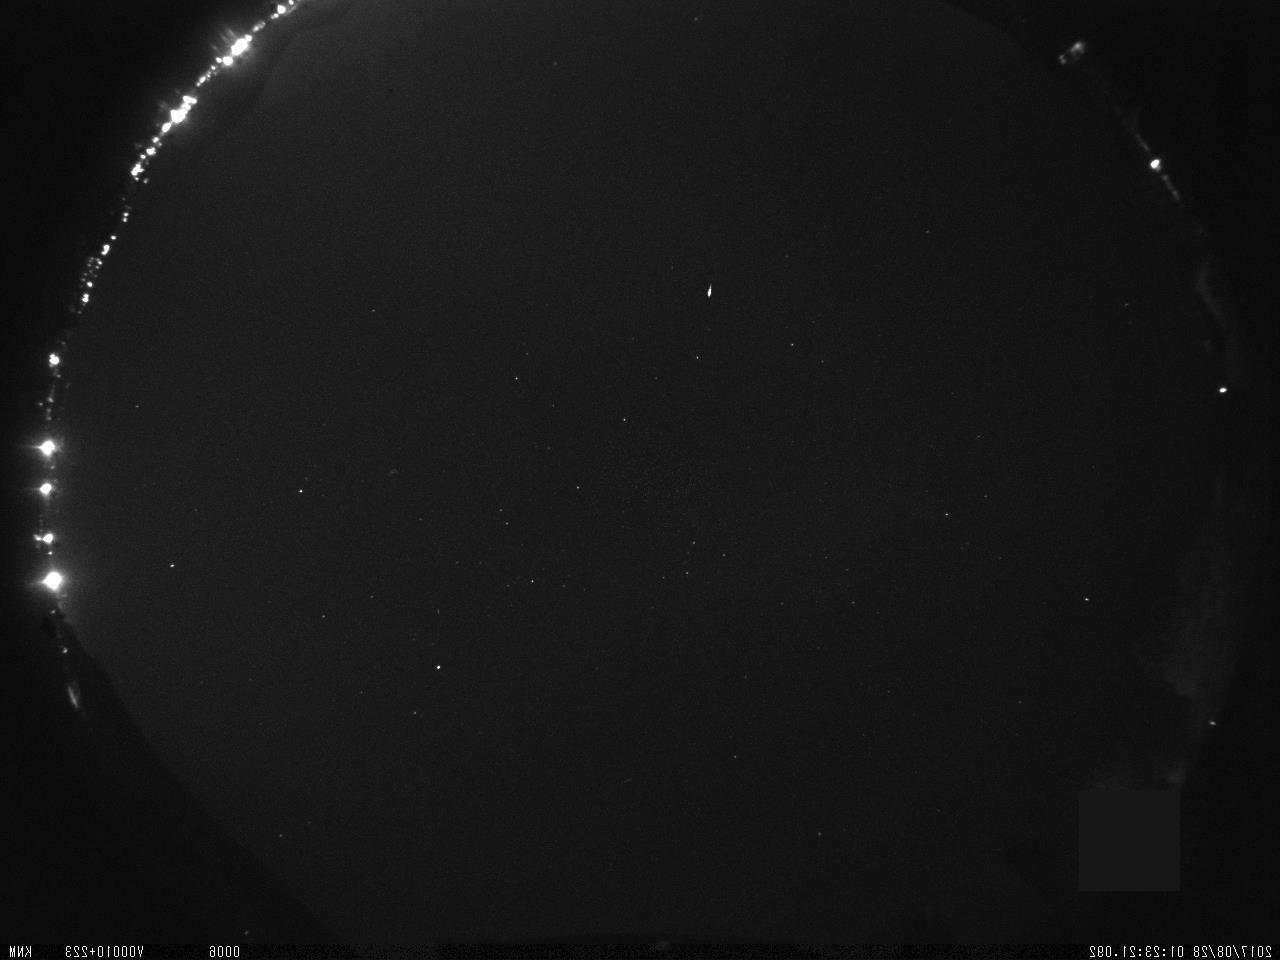meteor: (699, 279, 721, 303)
